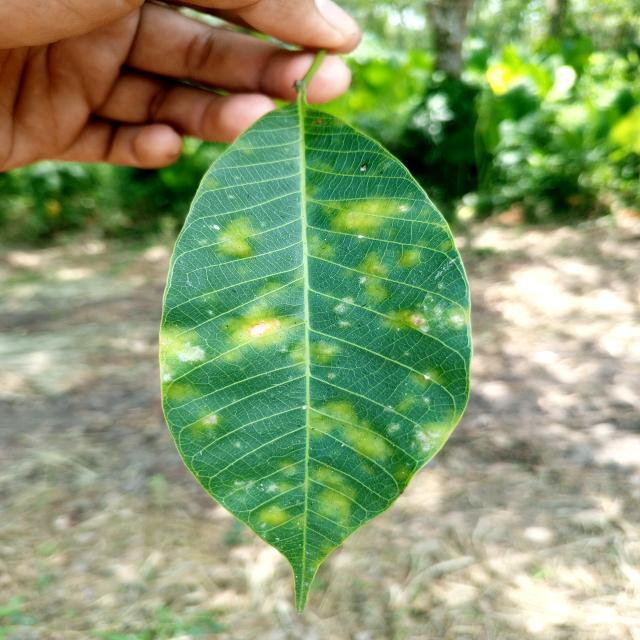Leaf-Blight: (249, 324, 268, 336)
